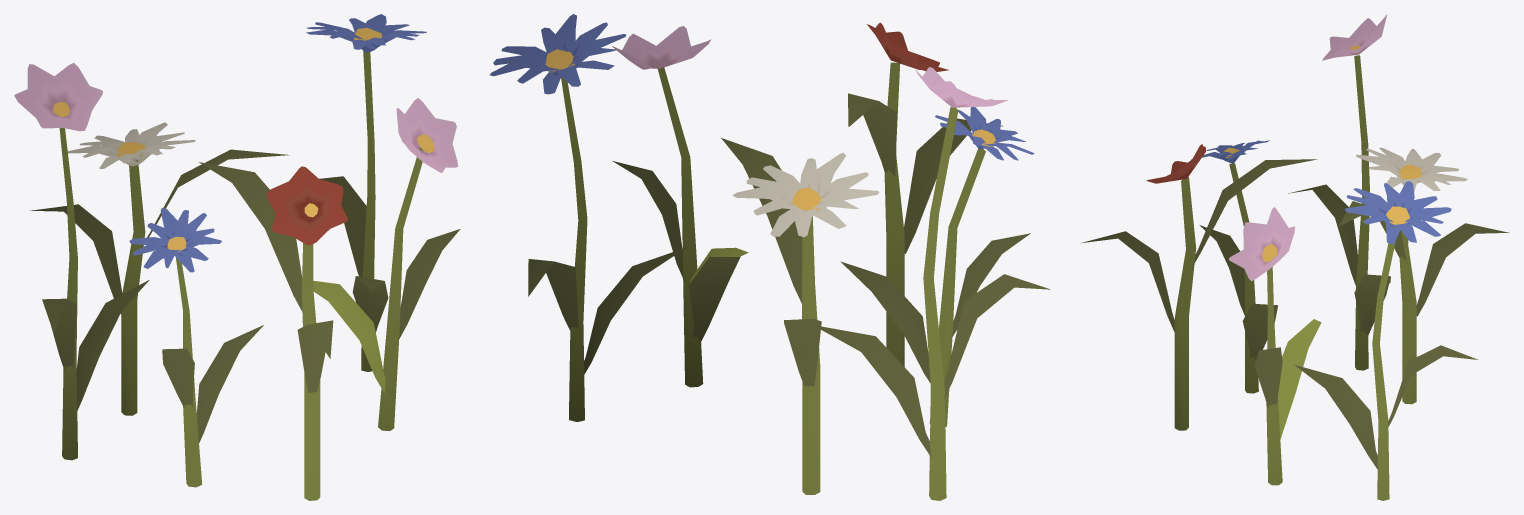
Rendered from mk_flower4.glb.
3 renders of one model, left to right at view 1: azimuth 30°, elevation 25°; view 2: azimuth 150°, elevation 25°; view 3: azimuth 270°, elevation 25°, orthographic. The views are drawn at different scales.
Visible parts, largest first — view 1: SM_Env_Wildflowers_02_LOD1; view 2: SM_Env_Wildflowers_02_LOD1; view 3: SM_Env_Wildflowers_02_LOD1.
Part boxes in pixels (x1=…): SM_Env_Wildflowers_02_LOD1: x1=14, y1=14, x2=460, y2=500; SM_Env_Wildflowers_02_LOD1: x1=489, y1=14, x2=1050, y2=500; SM_Env_Wildflowers_02_LOD1: x1=1080, y1=14, x2=1509, y2=500.
Bounding box in the file's own units: 2.89 × 2.49 × 2.83.
Materials: 1 (1 with a texture image).
